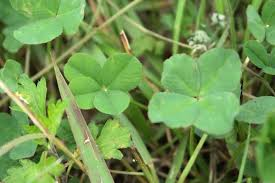4-clover: (151, 51, 242, 135), (65, 51, 141, 117)
